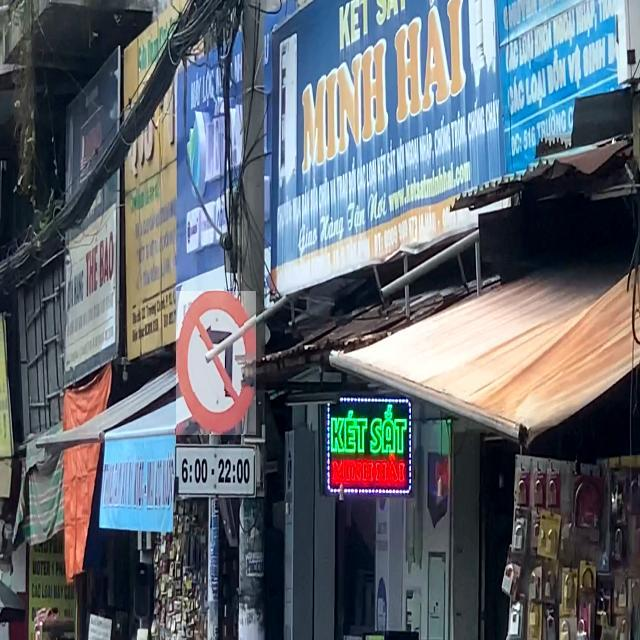P-123a: (176, 292, 256, 436)
